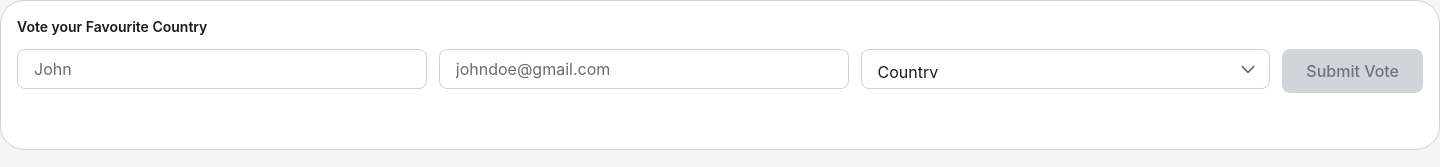
Test: VotingForm › form validation › should show validation errors on invalid input
Clear the field with placeholder "John" at x=222, y=69, box [17, 49, 427, 89]
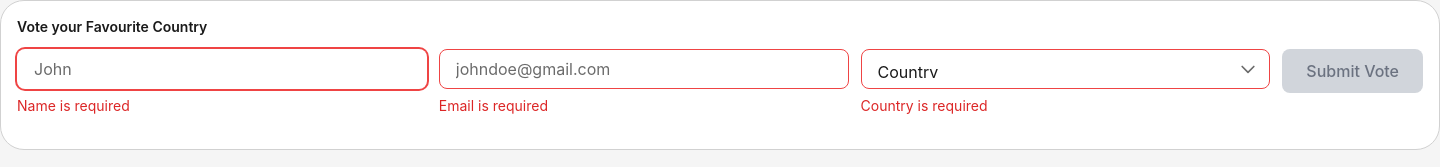
Result: the text "Name is required" is shown at [17, 97, 130, 114]
Result: the text "Email is required" is shown at [439, 97, 548, 114]
Result: the text "Country is required" is shown at [861, 97, 988, 114]
